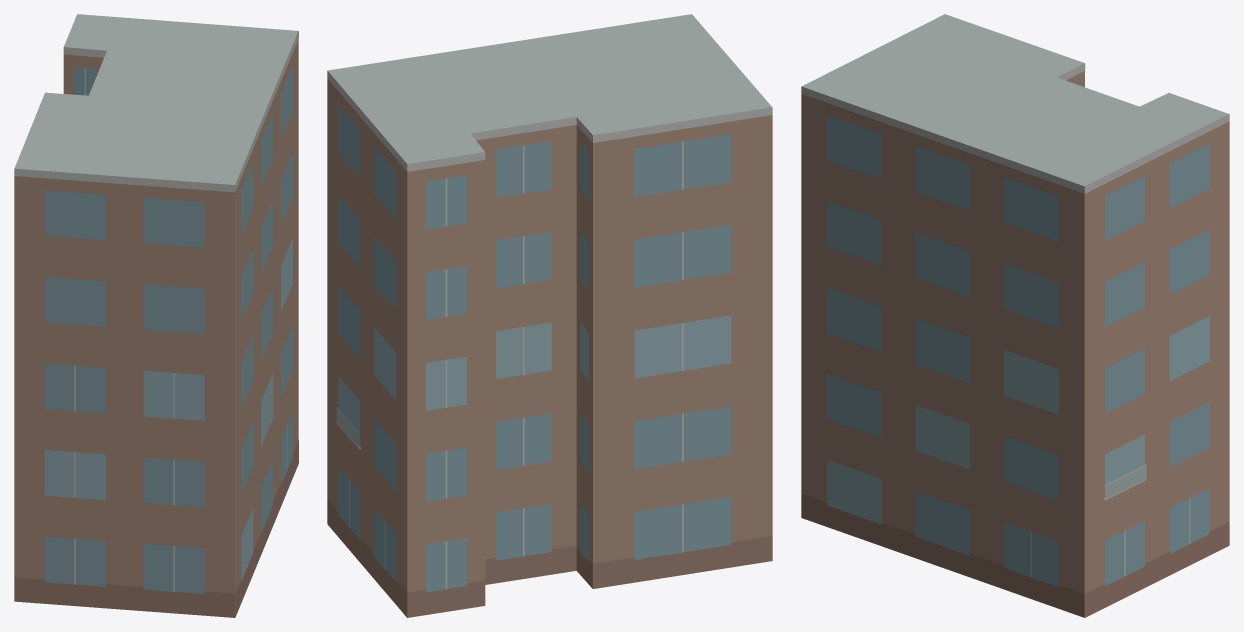
The model's file is survey-upis-32937884.glb.
3 renders of one model, left to right at view 1: azimuth 30°, elevation 25°; view 2: azimuth 150°, elevation 25°; view 3: azimuth 270°, elevation 25°, orthographic. The views are drawn at different scales.
Parts seen in each view (by area): view 1: survey-upis-32937884.tmp; view 2: survey-upis-32937884.tmp; view 3: survey-upis-32937884.tmp.
Boxes of the visible parts, x1=… form: survey-upis-32937884.tmp: x1=14, y1=14, x2=298, y2=617; survey-upis-32937884.tmp: x1=327, y1=14, x2=772, y2=617; survey-upis-32937884.tmp: x1=801, y1=14, x2=1229, y2=617.
Size of the model in its own units: 12.26 by 14.3 by 12.87.
